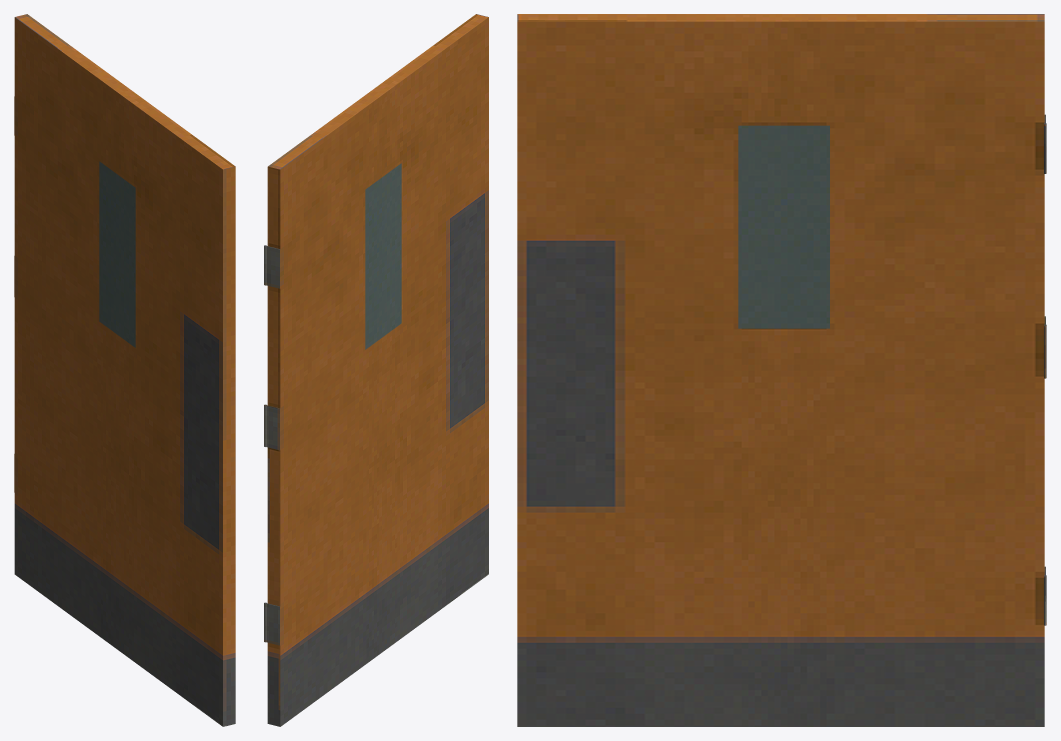
File: SM_SingleDoor.fbx
3 views of the same model, side by side, from view 1: azimuth 30°, elevation 25°; view 2: azimuth 150°, elevation 25°; view 3: azimuth 270°, elevation 25° (orthographic). The views are drawn at different scales.
Parts seen in each view (by area): view 1: SM_SingleDoor; view 2: SM_SingleDoor; view 3: SM_SingleDoor.
Part boxes in pixels (bbox=[...]): SM_SingleDoor: bbox=[14, 14, 235, 726]; SM_SingleDoor: bbox=[264, 14, 488, 726]; SM_SingleDoor: bbox=[517, 14, 1046, 726].
Size of the model in its own units: 6.27 by 210 by 143.
